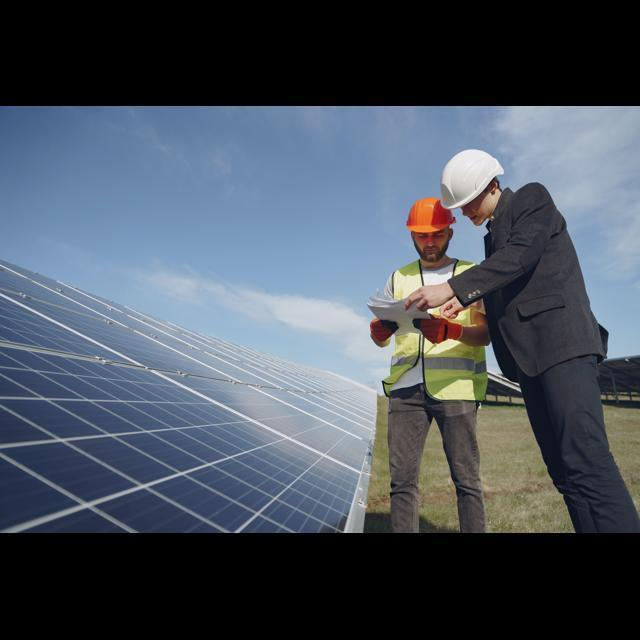Capacete: (441, 149, 503, 208), (406, 198, 454, 232)
Colete: (382, 333, 487, 400)
